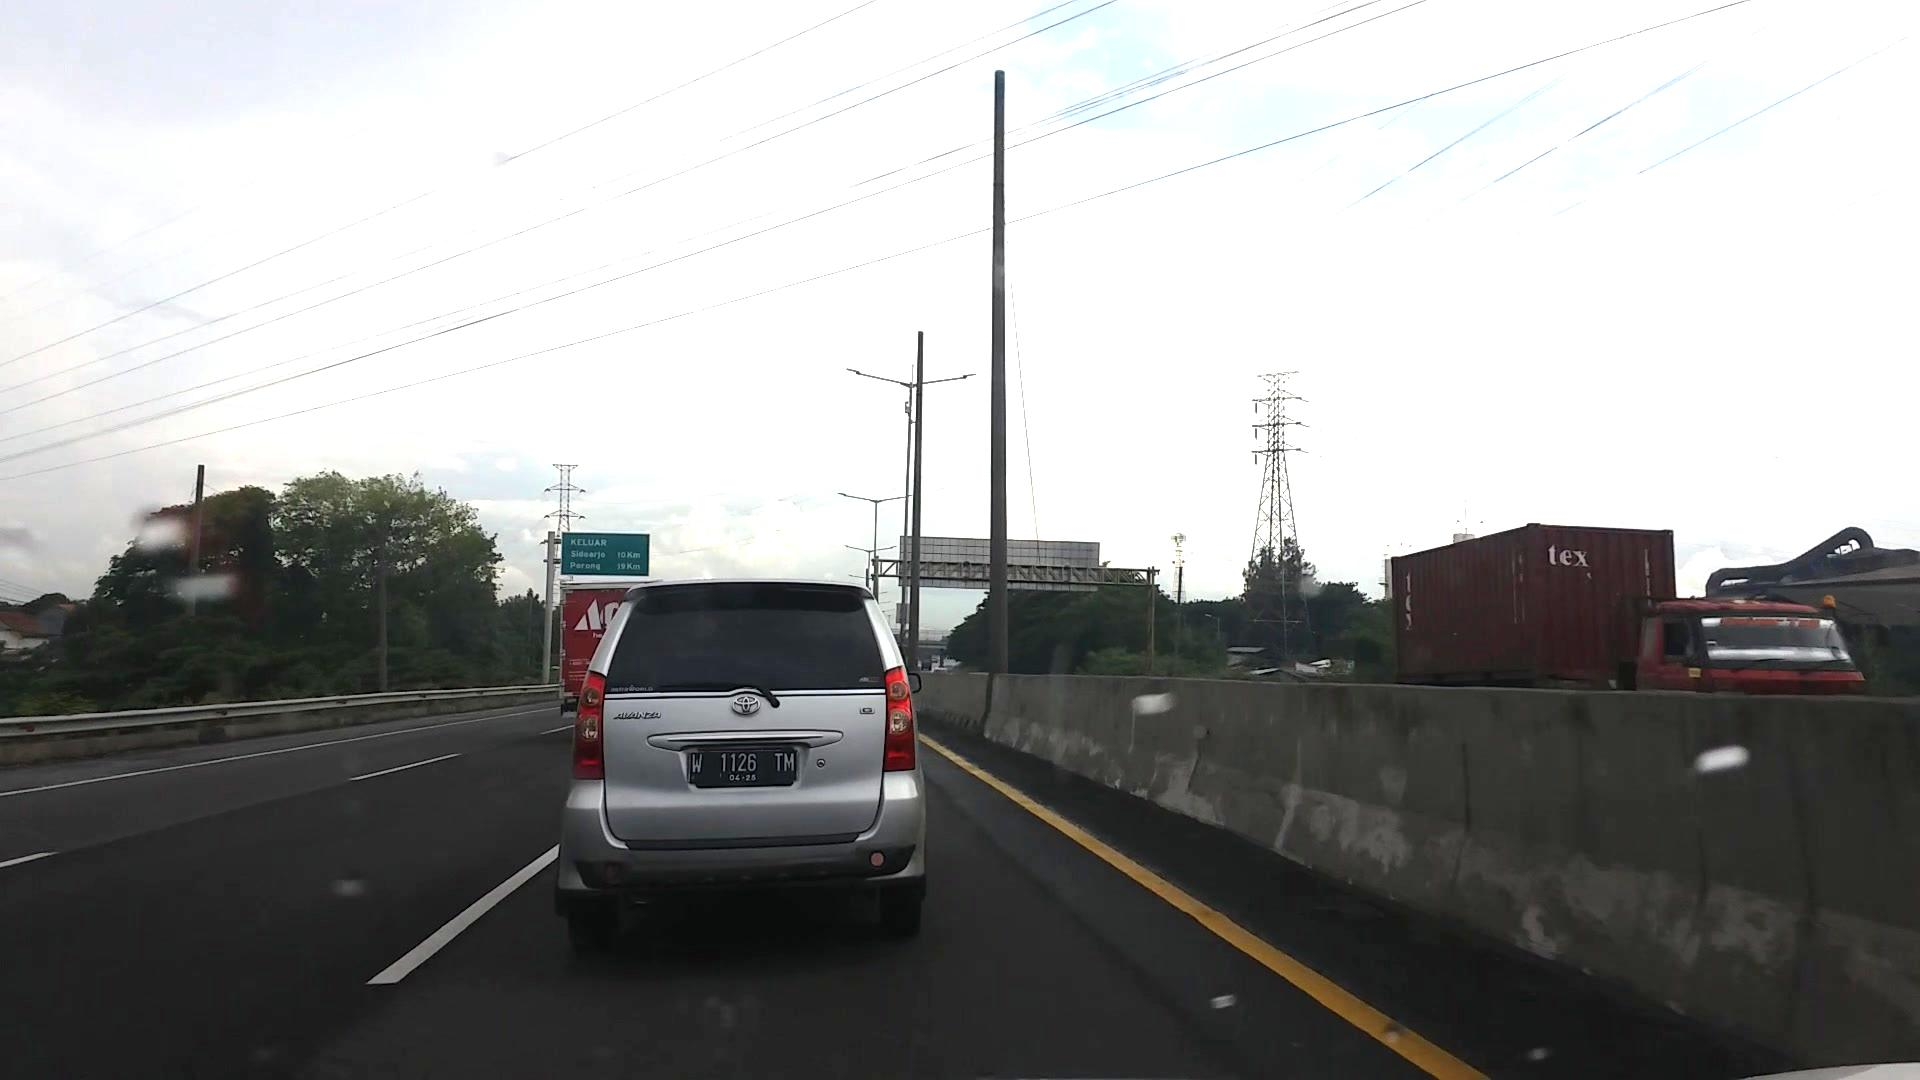plate_positive: (687, 752, 796, 786)
